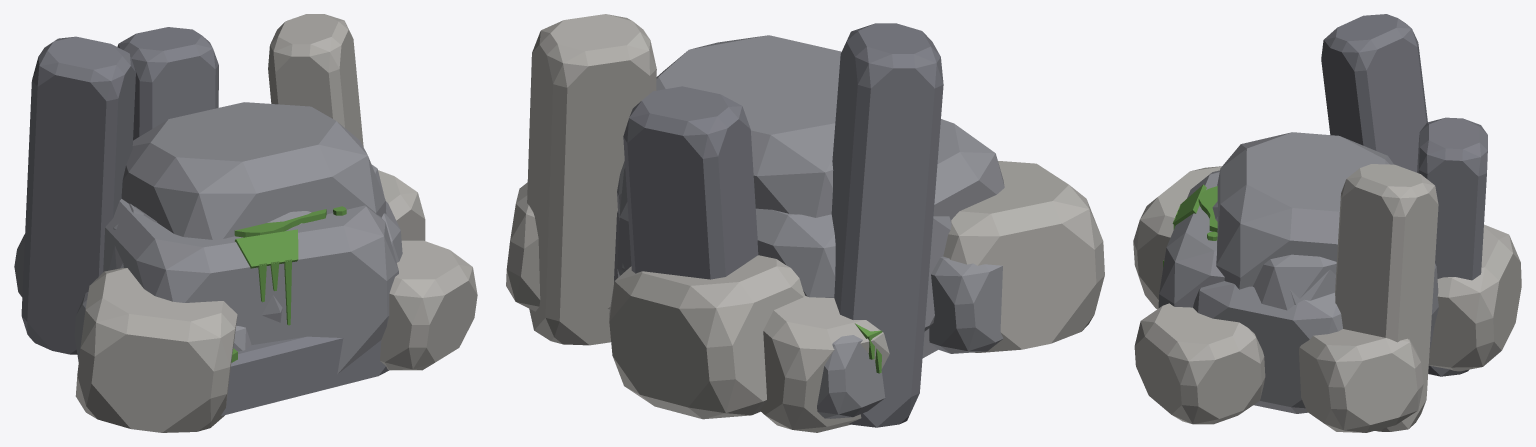
File: w1_rocks.fbx
The picture shows the model from 3 angles, left to right: view 1: azimuth 30°, elevation 25°; view 2: azimuth 150°, elevation 25°; view 3: azimuth 270°, elevation 25°; orthographic projection. The views are drawn at different scales.
Parts seen in each view (by area): view 1: StandingStone.Stones, Cliff.Accent, Cliff.Rock, MossyRockA.Rock, StandingStone.Accent, MossyRockA.Moss, BoulderB.Accent, MossyRockB.Rock, BoulderB.Rock; view 2: StandingStone.Stones, StandingStone.Accent, Cliff.Accent, BoulderA.Accent, Cliff.Rock, MossyRockA.Rock, MossyRockB.Rock, BoulderB.Accent, BoulderB.Rock; view 3: StandingStone.Stones, StandingStone.Accent, Cliff.Rock, Cliff.Accent, BoulderB.Accent, BoulderA.Accent, BoulderB.Rock, MossyRockA.Rock, MossyRockB.Rock, MossyRockA.Moss, BoulderA.Rock.
Boxes of the visible parts, x1,y1,x2,y2 form: StandingStone.Stones: [21, 27, 389, 415]; Cliff.Accent: [75, 240, 477, 432]; Cliff.Rock: [121, 102, 386, 239]; MossyRockA.Rock: [14, 199, 398, 373]; StandingStone.Accent: [268, 14, 363, 146]; MossyRockA.Moss: [234, 206, 346, 325]; BoulderB.Accent: [378, 170, 425, 240]; MossyRockB.Rock: [74, 164, 387, 361]; BoulderB.Rock: [109, 201, 402, 270]; StandingStone.Stones: [623, 23, 943, 427]; StandingStone.Accent: [527, 14, 656, 345]; Cliff.Accent: [760, 161, 1104, 432]; BoulderA.Accent: [609, 255, 804, 419]; Cliff.Rock: [617, 35, 841, 220]; MossyRockA.Rock: [614, 119, 1004, 418]; MossyRockB.Rock: [617, 168, 1003, 353]; BoulderB.Accent: [506, 182, 611, 311]; BoulderB.Rock: [924, 216, 951, 331]; StandingStone.Stones: [1321, 14, 1487, 376]; StandingStone.Accent: [1335, 164, 1438, 431]; Cliff.Rock: [1216, 132, 1393, 289]; Cliff.Accent: [1133, 166, 1265, 424]; BoulderB.Accent: [1299, 329, 1423, 432]; BoulderA.Accent: [1428, 224, 1521, 371]; BoulderB.Rock: [1193, 281, 1342, 413]; MossyRockA.Rock: [1158, 170, 1224, 307]; MossyRockB.Rock: [1209, 201, 1438, 330]; MossyRockA.Moss: [1172, 184, 1217, 240]; BoulderA.Rock: [1290, 270, 1434, 348].
Bounding box in the file's own units: 10.47 × 7.34 × 9.11.
